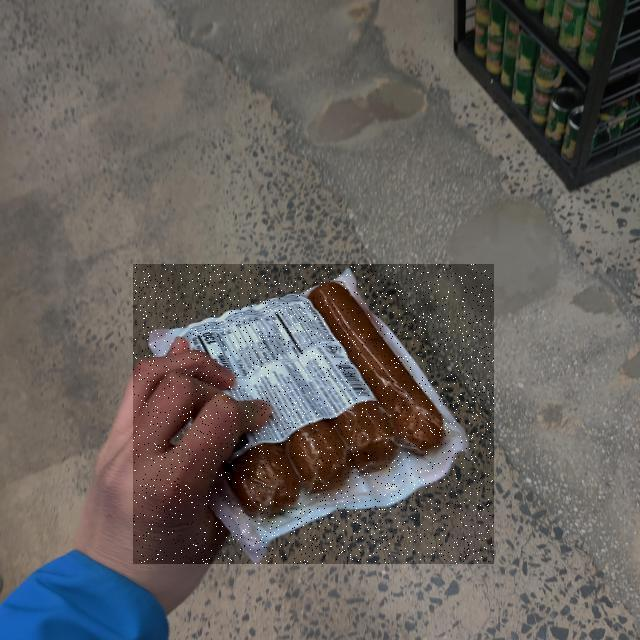Meat: (133, 264, 494, 564)
